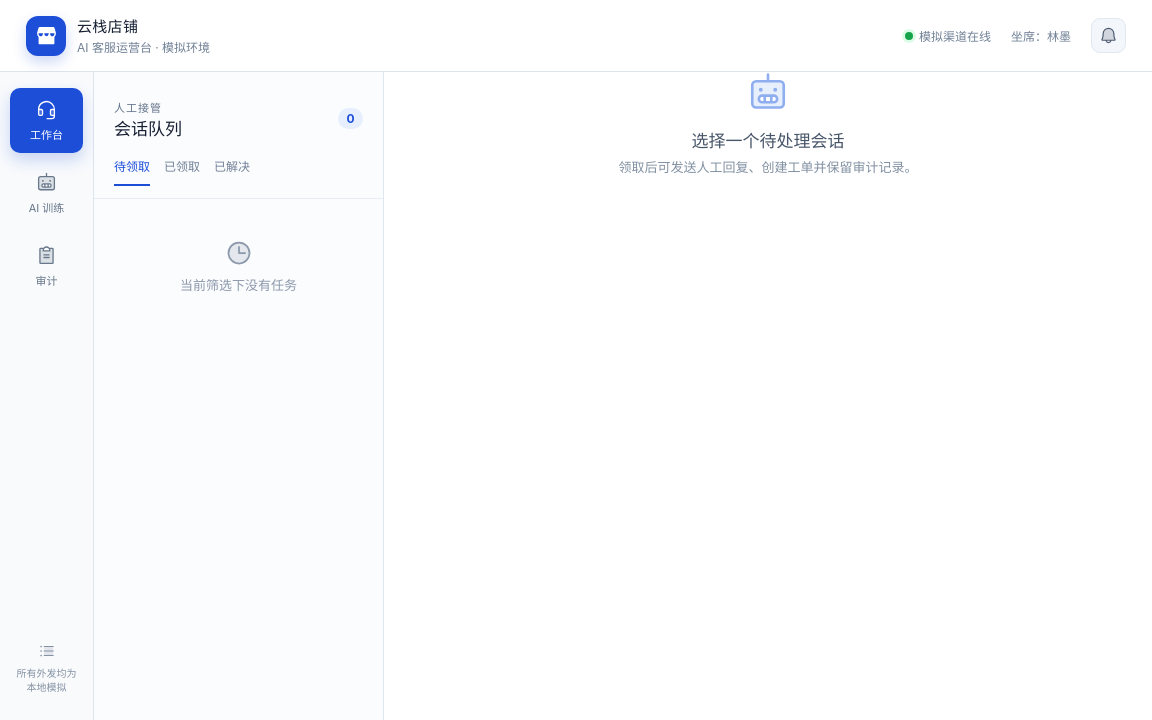
Test: opens the simulation notification panel
Click the button named "通知" at (1108, 36), box [1091,18,1126,53]
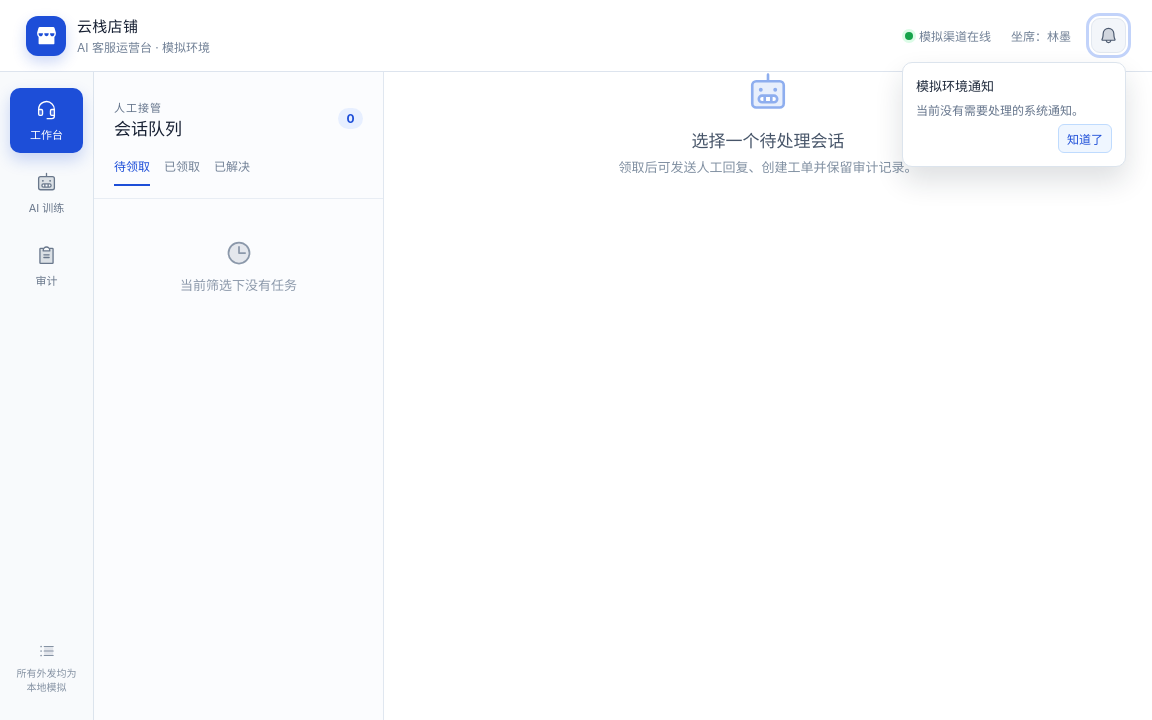
Expected: the message shows "当前没有需要处理的系统通知", [916,103,1084,118]
